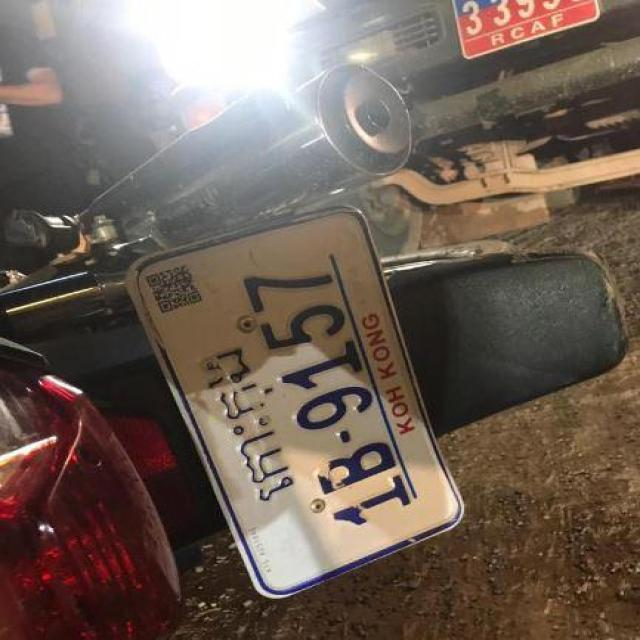Koh_Kong: (195, 344, 296, 508)
